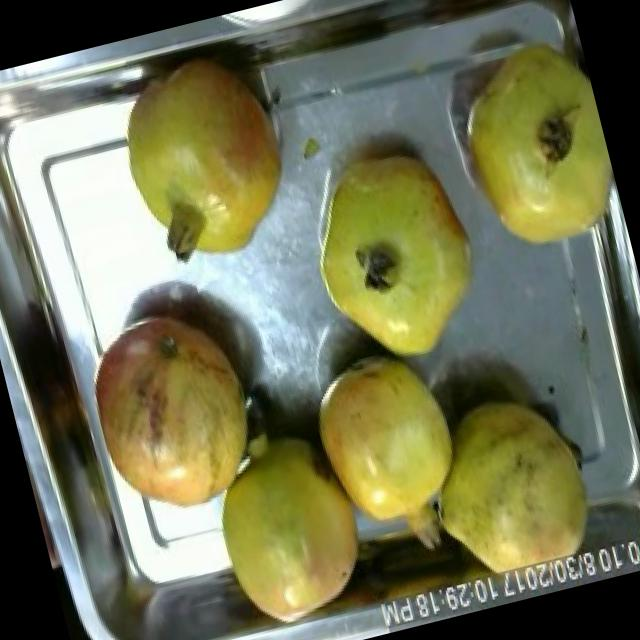fruit: (283, 118, 507, 390), (396, 370, 620, 613), (98, 36, 314, 288), (70, 283, 286, 535), (428, 12, 630, 279), (191, 412, 388, 640), (294, 330, 480, 550)
